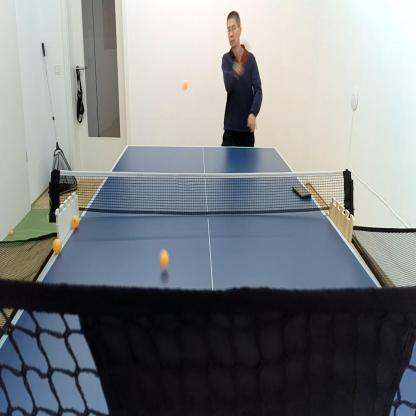Ball: (160, 250, 168, 264), (53, 237, 60, 251), (72, 217, 79, 227), (183, 80, 188, 90), (9, 230, 12, 237)
